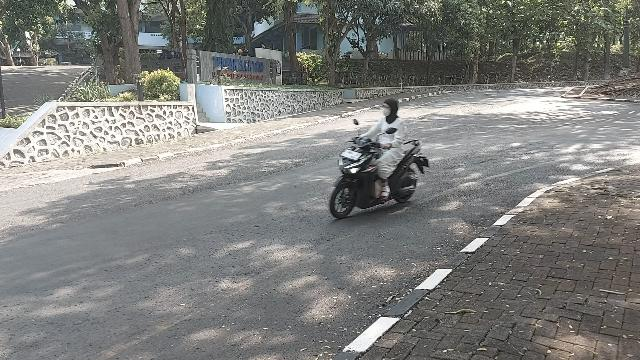motor: (331, 120, 430, 221)
non-helm: (384, 100, 398, 119)
